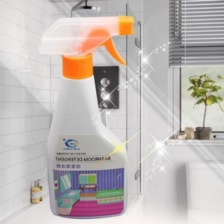cleaning_solution: (35, 12, 136, 221)
